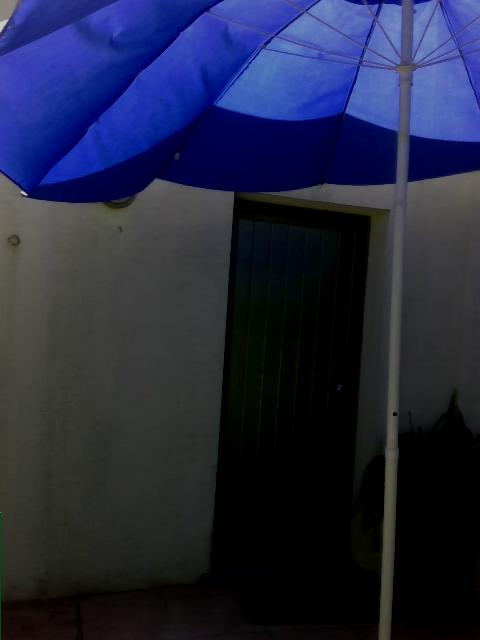closed_door: (208, 186, 381, 564)
